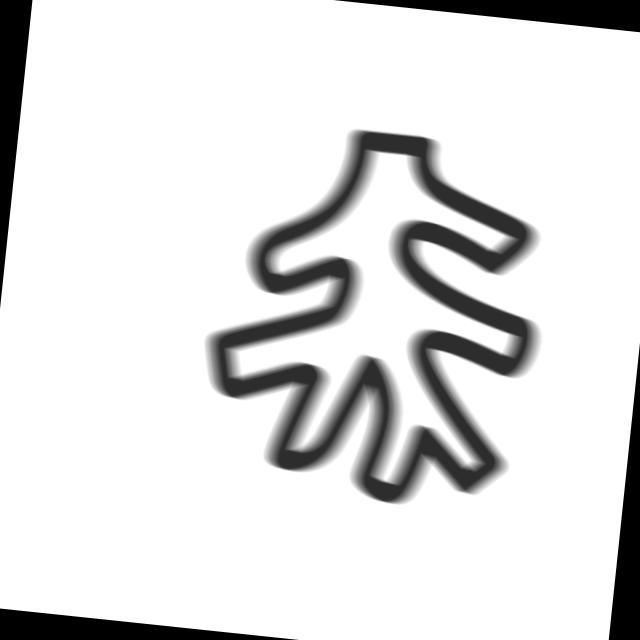coral: (183, 109, 569, 527)
